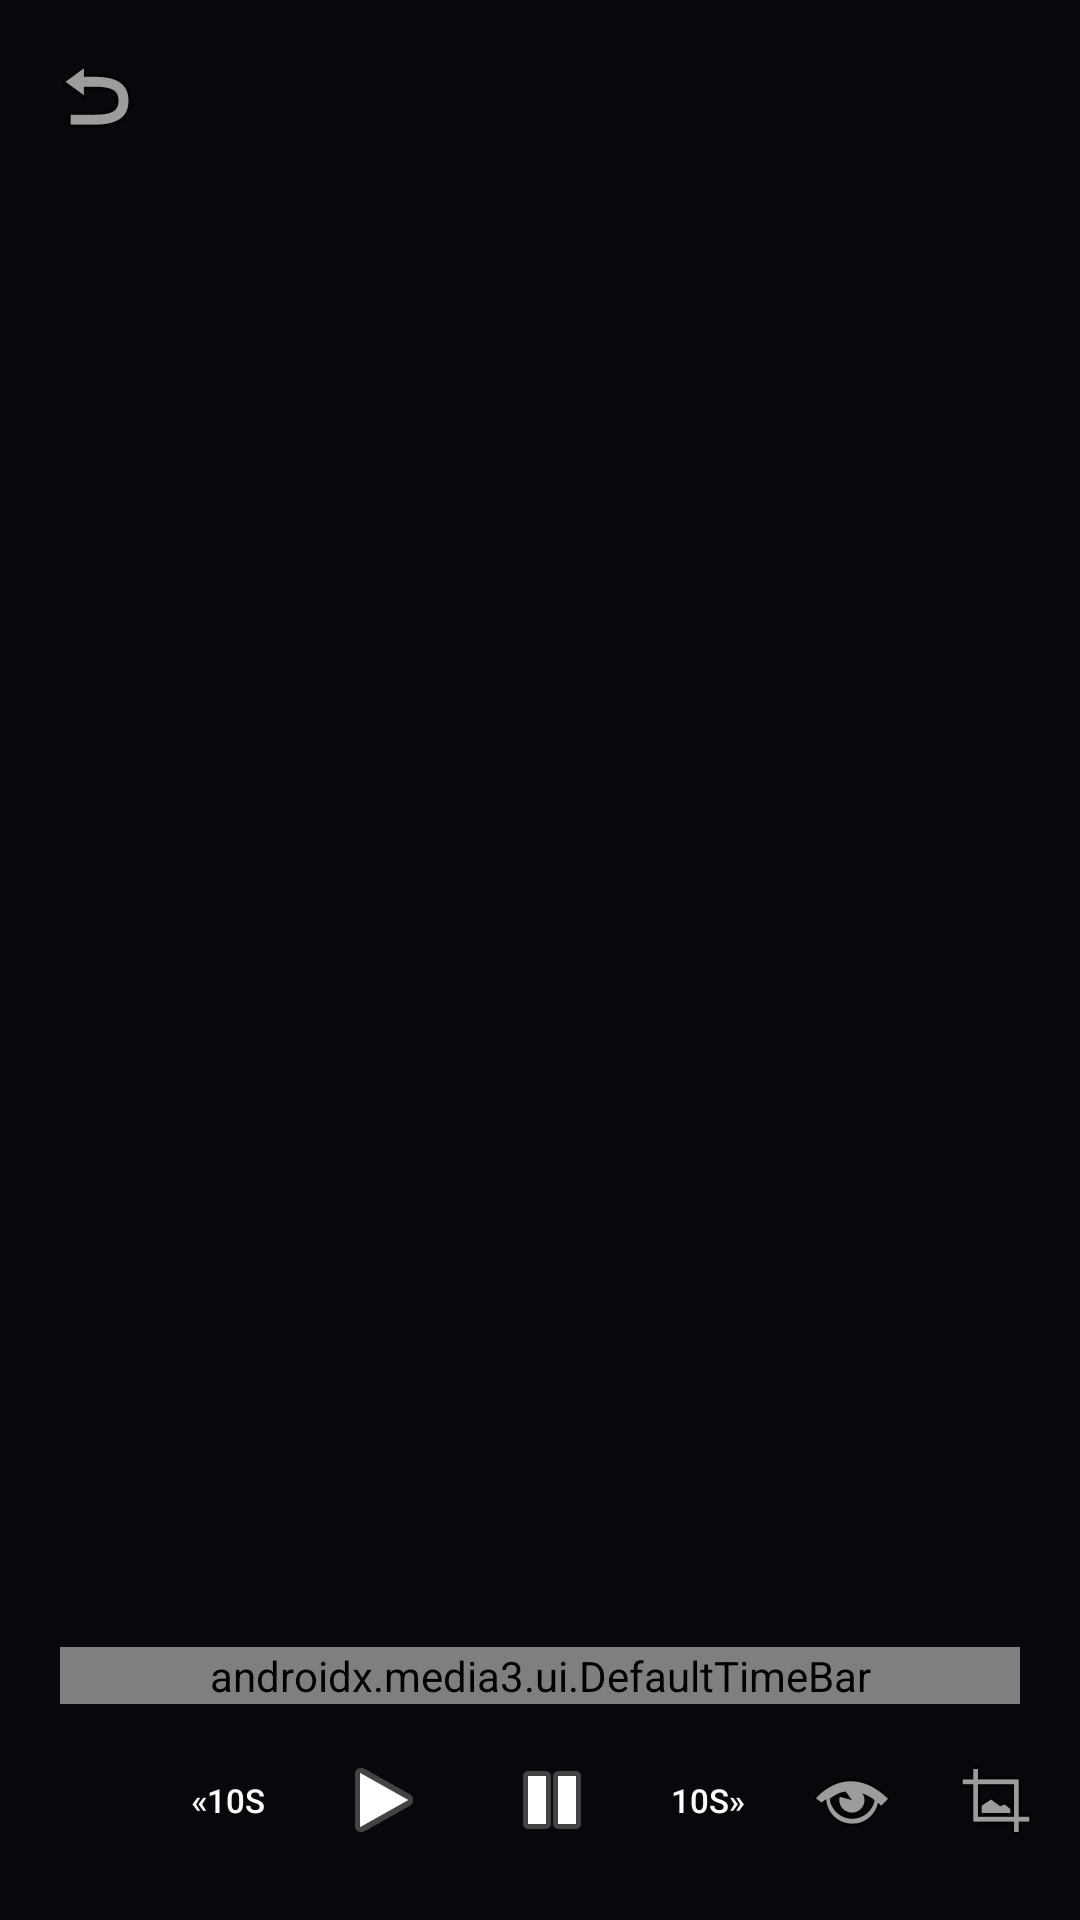

Screen size 1080x1920. Icon name, then its box in pixels as (x1, y1, x2, y2):
播放: (355, 1768, 413, 1832)
暂停: (523, 1771, 581, 1829)
